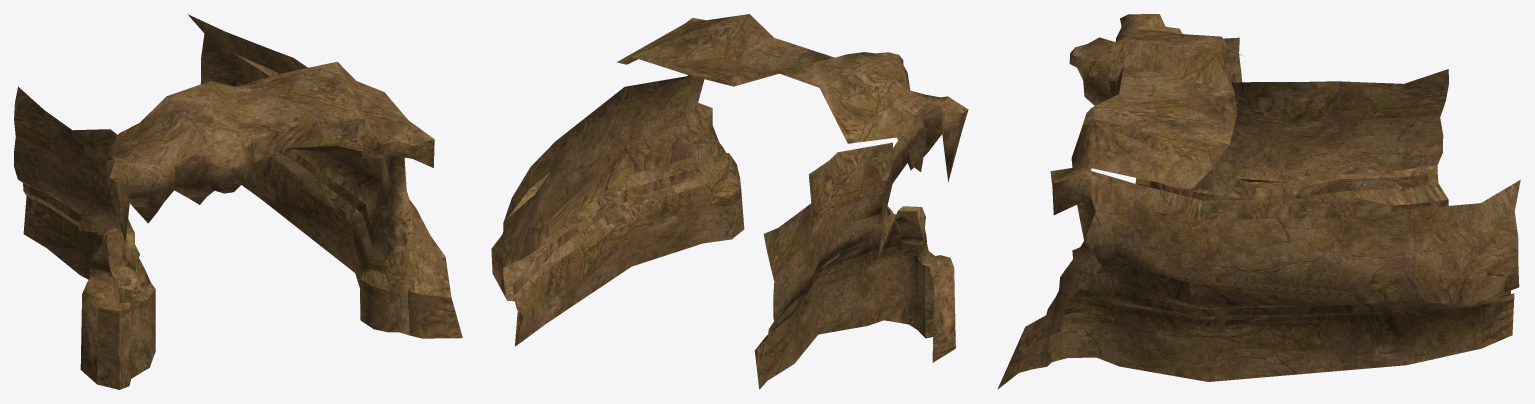
File: S_Rock_Yellow007_1.FBX
The picture shows the model from 3 angles, left to right: view 1: azimuth 30°, elevation 25°; view 2: azimuth 150°, elevation 25°; view 3: azimuth 270°, elevation 25°; orthographic projection. The views are drawn at different scales.
Visible parts, largest first — view 1: S_Rock_Yellow007_1; view 2: S_Rock_Yellow007_1; view 3: S_Rock_Yellow007_1.
Part boxes in pixels (bbox=[...]): S_Rock_Yellow007_1: bbox=[14, 14, 462, 389]; S_Rock_Yellow007_1: bbox=[491, 14, 968, 389]; S_Rock_Yellow007_1: bbox=[997, 14, 1520, 389].
Bounding box in the file's own units: 1155 × 1513 × 890.
